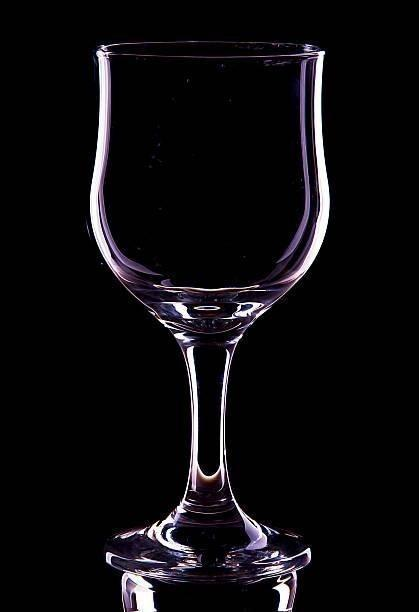glass-wine: (85, 33, 333, 593)
